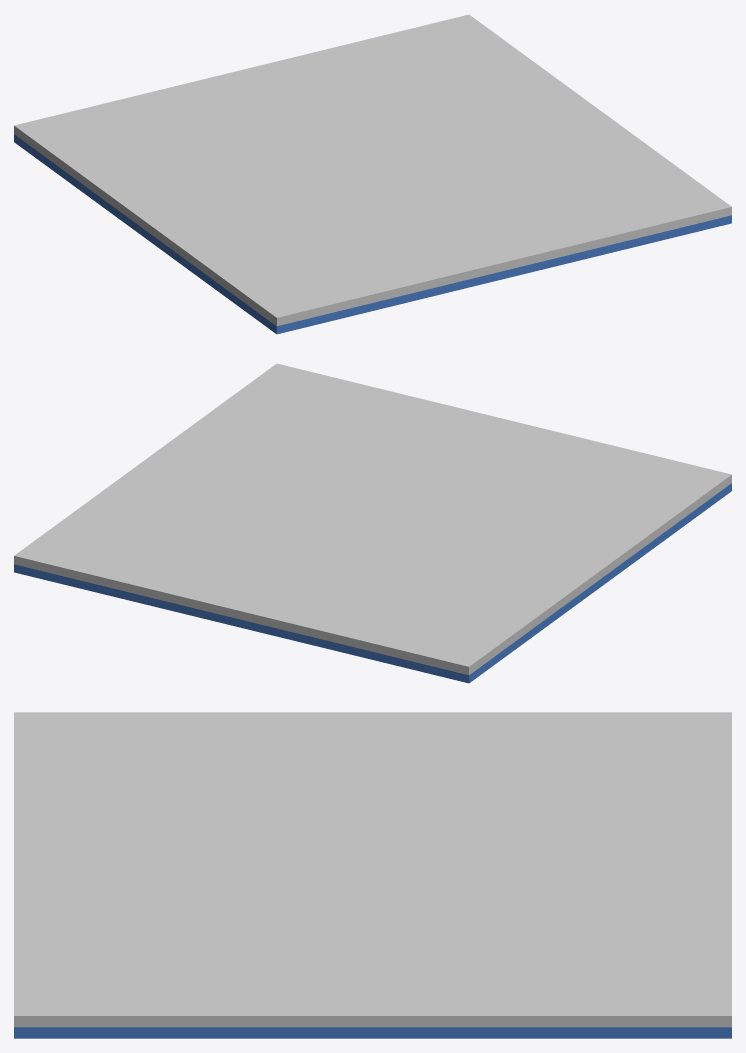
Rendered from RoomCeiling.fbx.
3 views of the same model, one above another, from view 1: azimuth 30°, elevation 25°; view 2: azimuth 150°, elevation 25°; view 3: azimuth 270°, elevation 25° (orthographic). The views are drawn at different scales.
Parts seen in each view (by area): view 1: Cube.023; view 2: Cube.023; view 3: Cube.023.
Part boxes in pixels (bbox=[...]): Cube.023: bbox=[14, 14, 731, 334]; Cube.023: bbox=[14, 363, 731, 683]; Cube.023: bbox=[14, 712, 731, 1038].
Bounding box in the file's own units: 656 × 41.59 × 656.
